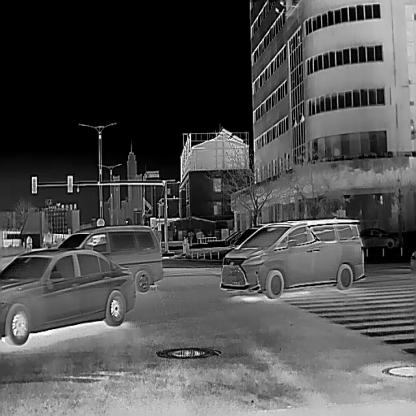car: (0, 247, 135, 346), (220, 220, 366, 298), (54, 224, 162, 292), (357, 226, 398, 248)
